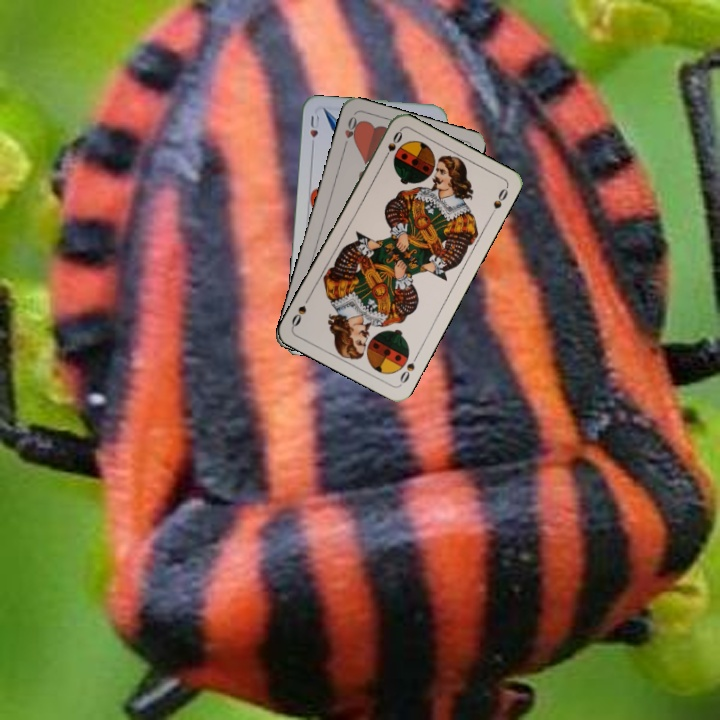HO: (340, 112, 362, 151)
HU: (306, 111, 322, 150)
SO: (379, 127, 405, 164), (396, 350, 421, 387)
